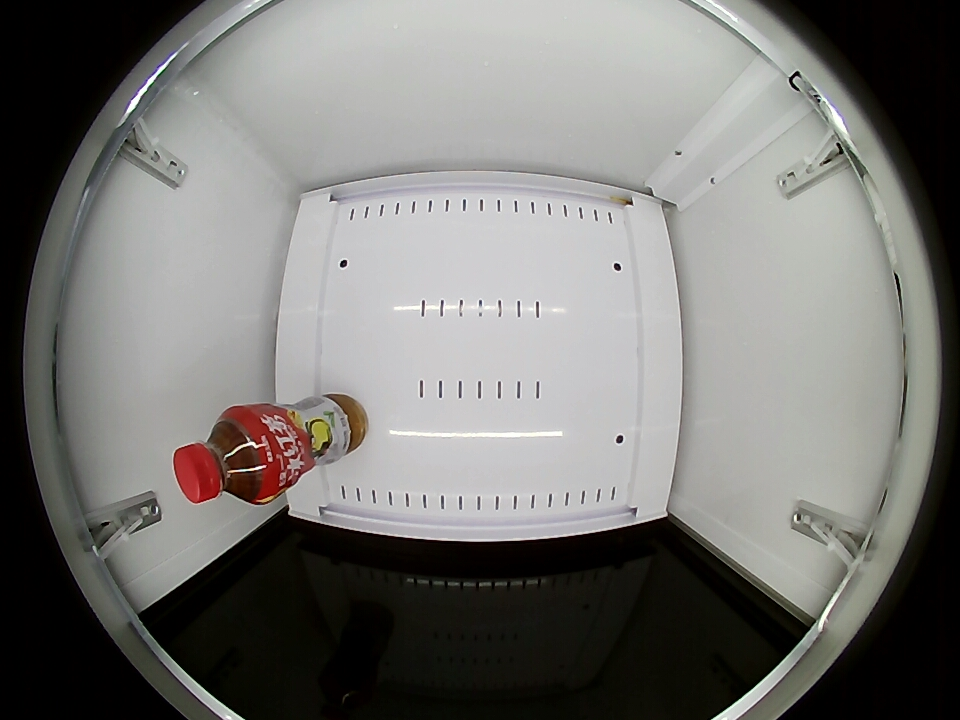binghongcha: (173, 407, 280, 506)
